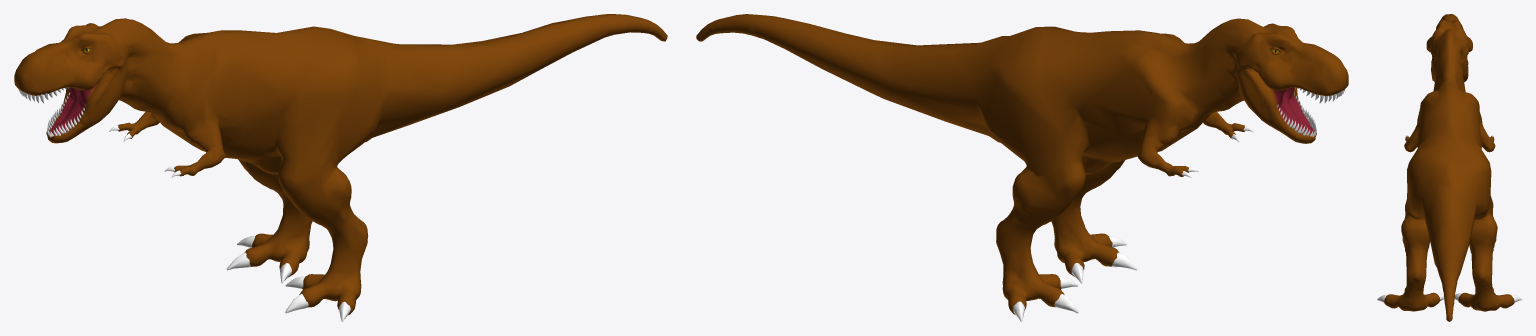
Rendered from rex.obj.
3 views of the same model, side by side, from view 1: azimuth 30°, elevation 25°; view 2: azimuth 150°, elevation 25°; view 3: azimuth 270°, elevation 25° (orthographic). The views are drawn at different scales.
Parts seen in each view (by area): view 1: T-Rex_Model_T-Rex_Model_Material.001, T-Rex_Model_T-Rex_Model_Material.003, T-Rex_Model_T-Rex_Model_Material.004; view 2: T-Rex_Model_T-Rex_Model_Material.001, T-Rex_Model_T-Rex_Model_Material.003, T-Rex_Model_T-Rex_Model_Material.004; view 3: T-Rex_Model_T-Rex_Model_Material.001, T-Rex_Model_T-Rex_Model_Material.003.
Boxes of the visible parts, x1=… form: T-Rex_Model_T-Rex_Model_Material.001: x1=14, y1=14, x2=667, y2=315; T-Rex_Model_T-Rex_Model_Material.003: x1=18, y1=87, x2=350, y2=321; T-Rex_Model_T-Rex_Model_Material.004: x1=49, y1=84, x2=96, y2=134; T-Rex_Model_T-Rex_Model_Material.001: x1=696, y1=14, x2=1348, y2=314; T-Rex_Model_T-Rex_Model_Material.003: x1=1012, y1=87, x2=1344, y2=321; T-Rex_Model_T-Rex_Model_Material.004: x1=1273, y1=87, x2=1314, y2=134; T-Rex_Model_T-Rex_Model_Material.001: x1=1384, y1=14, x2=1514, y2=321; T-Rex_Model_T-Rex_Model_Material.003: x1=1377, y1=135, x2=1521, y2=302.
Size of the model in its own units: 45.08 by 20.52 by 12.66.
